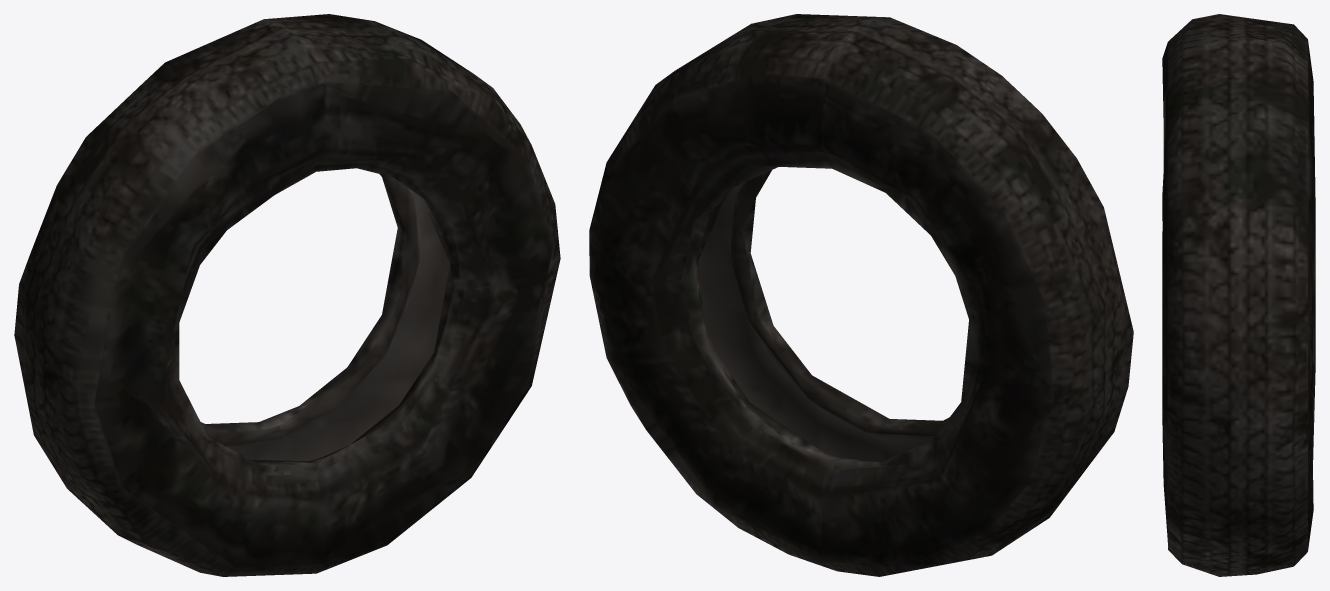
Rendered from old_tyre.glb.
The picture shows the model from 3 angles, left to right: view 1: azimuth 30°, elevation 25°; view 2: azimuth 150°, elevation 25°; view 3: azimuth 270°, elevation 25°; orthographic projection. The views are drawn at different scales.
Visible parts, largest first — view 1: old_tyre; view 2: old_tyre; view 3: old_tyre.
Boxes of the visible parts, x1,y1,x2,y2 form: old_tyre: [14, 14, 560, 576]; old_tyre: [589, 14, 1133, 576]; old_tyre: [1162, 14, 1315, 576].
Bounding box in the file's own units: 0.5942 × 0.6 × 0.1632.
1 material, 1 textured.
